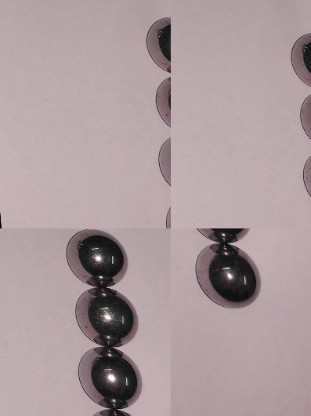ironball: (191, 242, 263, 309), (70, 284, 141, 346), (76, 345, 141, 409), (60, 228, 130, 283), (141, 15, 170, 68), (284, 31, 309, 88), (151, 75, 170, 126), (192, 228, 256, 243), (155, 135, 170, 188), (295, 90, 309, 144), (300, 152, 309, 203)
